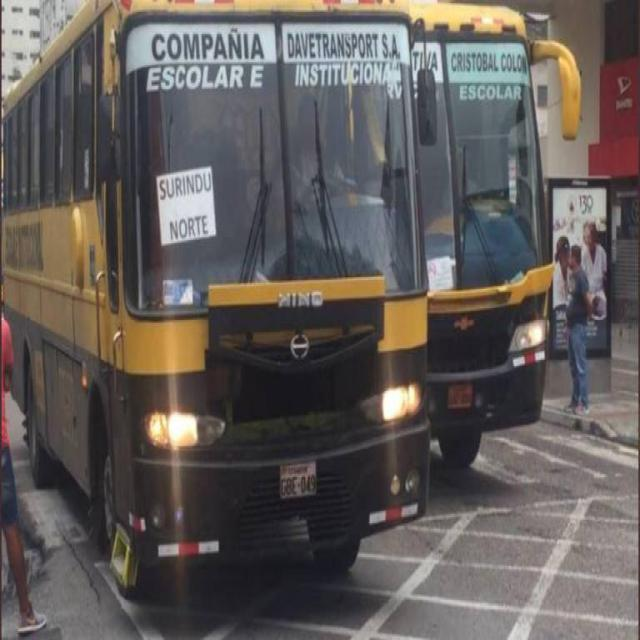BUS: (5, 1, 459, 612), (406, 8, 555, 491)
